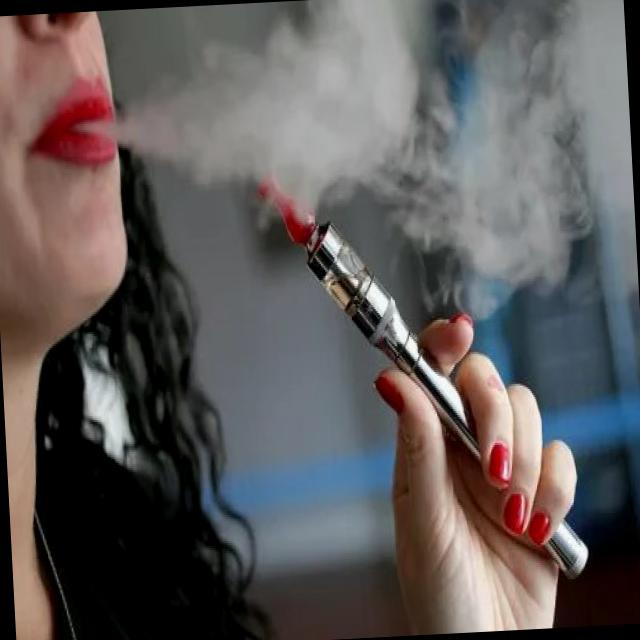cigarette: (238, 142, 589, 600)
